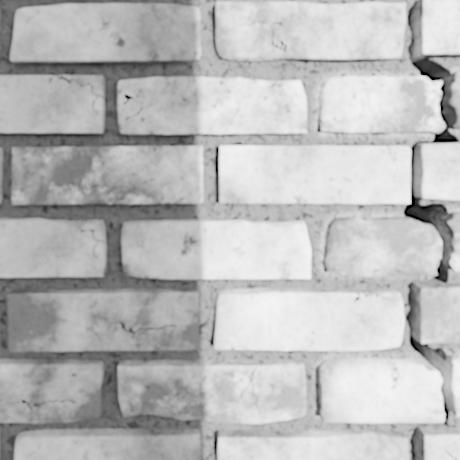brick: (118, 360, 305, 423), (8, 289, 197, 351), (214, 289, 402, 350), (214, 2, 404, 61), (12, 146, 202, 204), (11, 4, 200, 62), (122, 220, 309, 278), (219, 146, 409, 203), (118, 77, 305, 134), (0, 359, 103, 422), (0, 218, 105, 276), (0, 76, 103, 132), (15, 429, 200, 459), (216, 430, 407, 459), (415, 284, 459, 342), (417, 143, 459, 199), (417, 0, 459, 55), (419, 428, 459, 459), (67, 76, 103, 95), (0, 149, 1, 203)
broken_brick: (318, 358, 442, 423), (317, 75, 443, 133), (322, 215, 440, 276), (443, 211, 459, 272), (447, 354, 459, 414), (450, 70, 459, 129)
crack: (399, 1, 459, 459), (47, 75, 103, 116), (387, 146, 398, 182), (444, 449, 457, 459)
